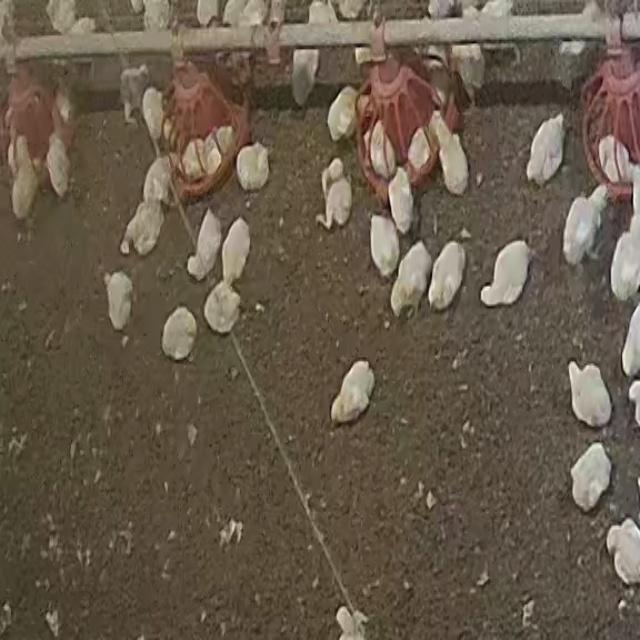chicken: (562, 187, 608, 265), (479, 241, 533, 307), (178, 125, 236, 183), (389, 243, 431, 317), (566, 361, 612, 428), (569, 442, 612, 512), (331, 358, 374, 425), (526, 114, 566, 185), (426, 241, 466, 311), (187, 207, 223, 281), (120, 200, 164, 258), (10, 136, 40, 221), (317, 160, 353, 230), (605, 517, 640, 585), (609, 226, 640, 302), (437, 126, 470, 197), (202, 280, 242, 336), (220, 217, 252, 286), (449, 44, 486, 100), (369, 212, 400, 278), (161, 306, 197, 360), (325, 86, 359, 143), (119, 65, 151, 125), (387, 168, 415, 236), (104, 271, 134, 332), (235, 140, 270, 192), (45, 133, 72, 200), (598, 135, 633, 185), (367, 122, 397, 180), (143, 156, 175, 207), (290, 49, 319, 105), (142, 86, 166, 148), (407, 123, 432, 174), (44, 0, 80, 34), (181, 139, 206, 179), (140, 0, 172, 31), (428, 108, 452, 149), (54, 81, 74, 126), (306, 0, 338, 26), (336, 0, 366, 20), (215, 125, 235, 155), (639, 0, 640, 106)
